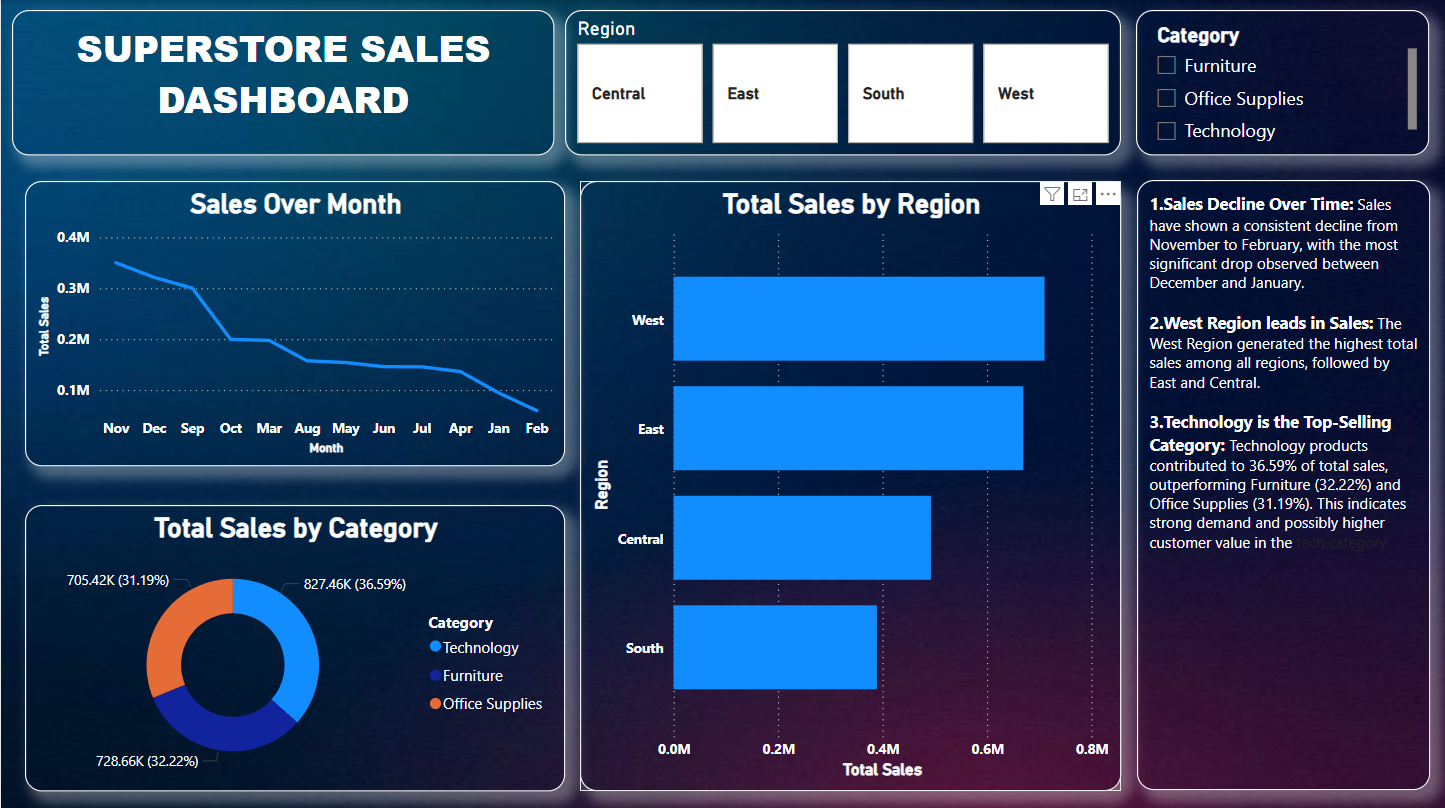

The dashboard page shown, as its layout file describes it:
{"tool":"powerbi","page":{"name":"Superstore Sales","canvas":[1280,720],"ordinal":0},"visuals":[{"type":"textbox","box":[9.7,8.8,481.5,129.4],"z":0},{"type":"lineChart","title":"Sales Over Month","fields":{"Category":["train.Month"],"Y":["train.Total Sales"]},"box":[21.4,160.5,478.5,252.9],"z":1},{"type":"advancedSlicerVisual","fields":{"Values":["train.Region"]},"box":[499.9,8.8,493.1,129.4],"z":2},{"type":"slicer","fields":{"Values":["train.Category"]},"box":[1006.7,8.8,259.7,129.4],"z":3},{"type":"donutChart","fields":{"Y":["train.Total Sales"],"Category":["train.Category"]},"box":[21.4,447.4,478.5,253.9],"z":4},{"type":"barChart","fields":{"Y":["train.Total Sales"],"Category":["train.Region"]},"box":[513.6,160.5,479.5,540.8],"z":5},{"type":"textbox","box":[1007,160,260,541],"z":6}]}

Visuals, with their boxes in screenshot pixels (x1, y1, x2, y2), scaled from the page's 1280x720 canvas onto the 1445x808 screenshot:
textbox: (11, 10, 555, 155)
"Sales Over Month" lineChart: (24, 180, 564, 464)
advancedSlicerVisual - train.Region: (564, 10, 1121, 155)
slicer - train.Category: (1136, 10, 1430, 155)
donutChart - train.Total Sales x train.Category: (24, 502, 564, 787)
barChart - train.Total Sales x train.Region: (580, 180, 1121, 787)
textbox: (1137, 180, 1430, 787)
